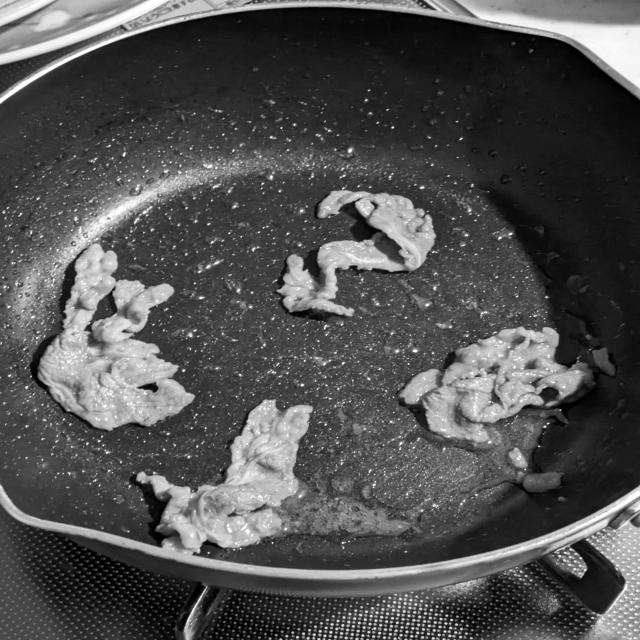OK cooked beef,: (23, 235, 197, 441), (131, 393, 317, 560), (391, 322, 603, 448), (269, 185, 446, 327)
